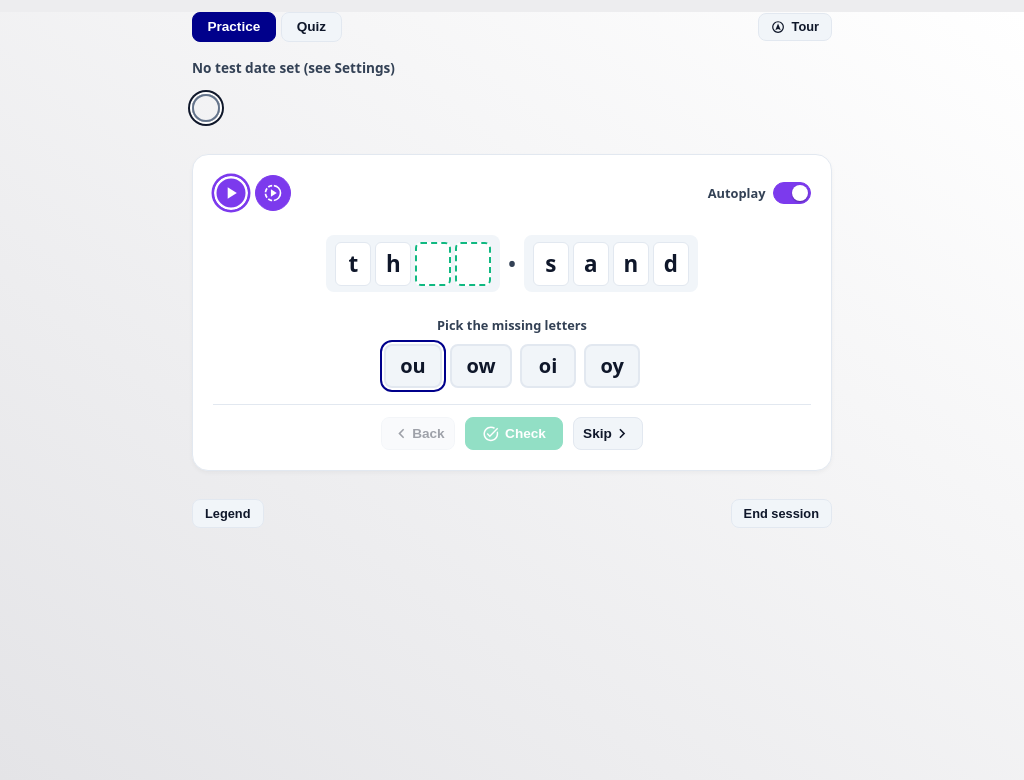
Smart hiding in the deck › a wrong pick at L1 stays at L1 and shows the lesson hint
The image size is (1024, 780).
Step 1. Click the button "ow" → (481, 366), box [450,344,512,388]
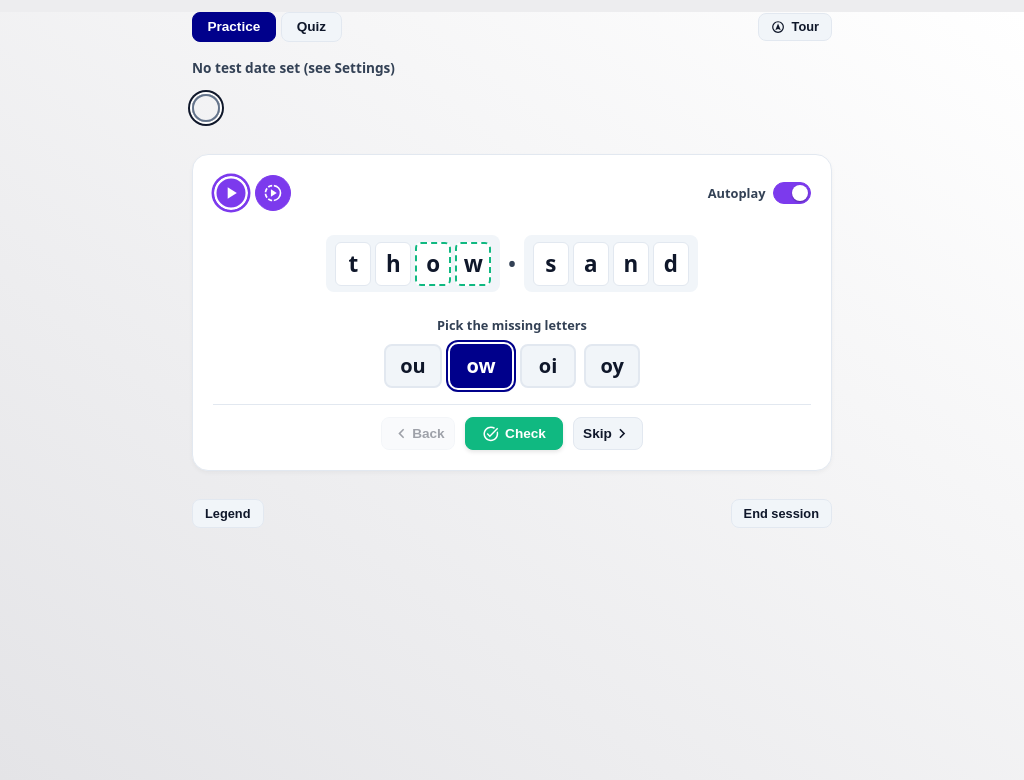
Step 2. Click the button with aria-label "Check your answer for thousand" → (514, 433), box [465,417,563,450]
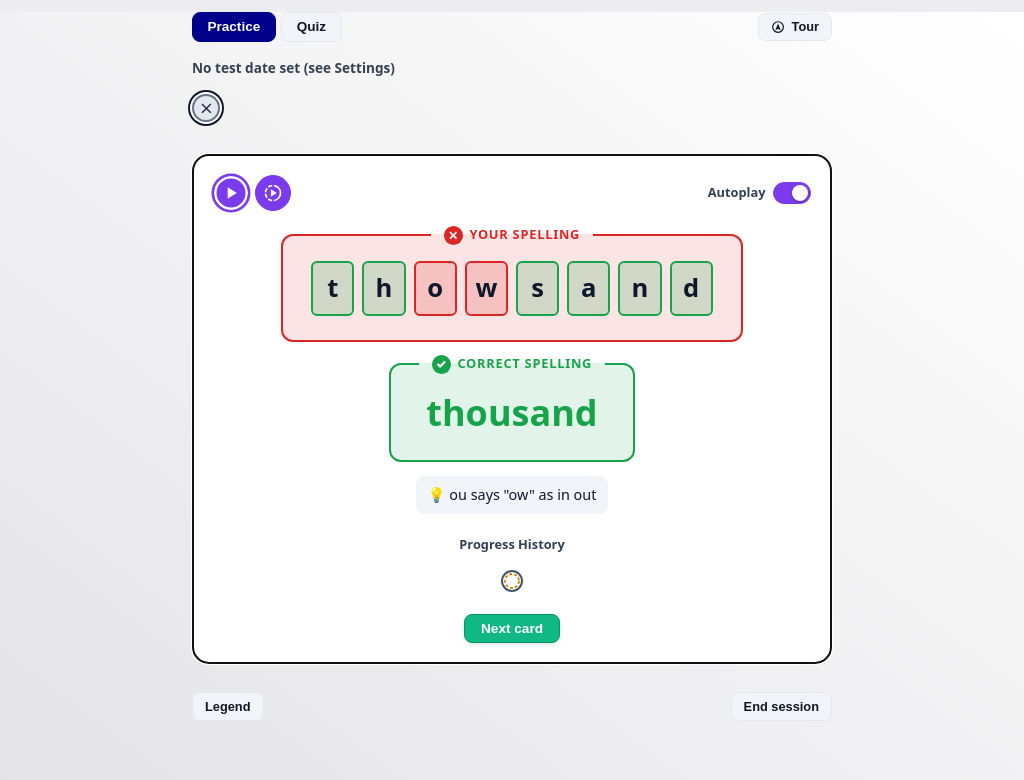
Expected: the text "Progress History" is shown, [459,535,565,554]
Expected: the text "💡 ou says \"ow\" as in out" is shown, [416,476,608,514]
